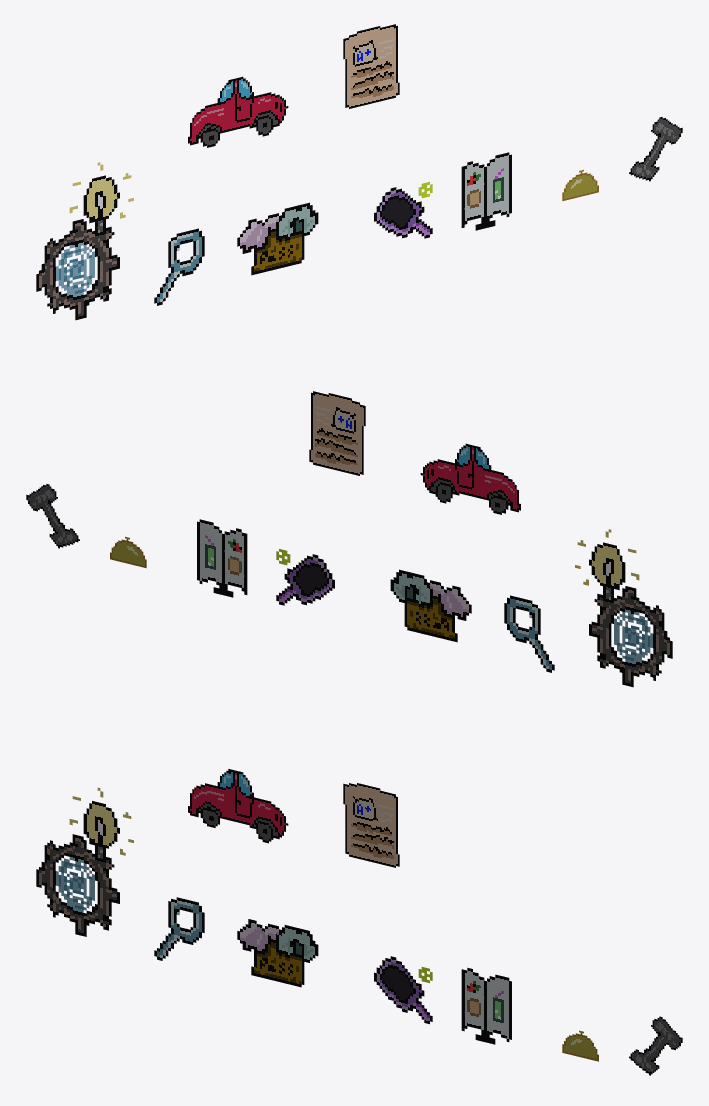
The model's file is study_house_objects.glb.
3 views of the same model, one above another, from view 1: azimuth 30°, elevation 25°; view 2: azimuth 150°, elevation 25°; view 3: azimuth 330°, elevation 25° (orthographic).
Parts seen in each view (by area): view 1: Study House Objects.001, Study House Objects.009, Study House Objects.010, Study House Objects.005, Study House Objects.002, Study House Objects.004, Study House Objects.003, Study House Objects.007, Study House Objects.006; view 2: Study House Objects.001, Study House Objects.009, Study House Objects.010, Study House Objects.005, Study House Objects.002, Study House Objects.004, Study House Objects.003, Study House Objects.007, Study House Objects.006; view 3: Study House Objects.001, Study House Objects.009, Study House Objects.010, Study House Objects.005, Study House Objects.002, Study House Objects.004, Study House Objects.003, Study House Objects.007, Study House Objects.006.
Part boxes in pixels (box(x1,y1,x2,y2)): Study House Objects.001: box(36, 162, 133, 320); Study House Objects.009: box(343, 24, 399, 108); Study House Objects.010: box(188, 76, 288, 147); Study House Objects.005: box(237, 202, 318, 275); Study House Objects.002: box(461, 152, 511, 230); Study House Objects.004: box(374, 182, 432, 238); Study House Objects.003: box(154, 228, 204, 305); Study House Objects.007: box(629, 117, 682, 181); Study House Objects.006: box(562, 169, 598, 201); Study House Objects.001: box(575, 529, 672, 687); Study House Objects.009: box(309, 391, 365, 475); Study House Objects.010: box(420, 443, 520, 514); Study House Objects.005: box(390, 569, 471, 642); Study House Objects.002: box(197, 519, 247, 597); Study House Objects.004: box(276, 549, 334, 605); Study House Objects.003: box(504, 595, 554, 672); Study House Objects.007: box(26, 484, 79, 548); Study House Objects.006: box(110, 536, 146, 568); Study House Objects.001: box(36, 787, 133, 936); Study House Objects.009: box(343, 783, 399, 867); Study House Objects.010: box(188, 769, 288, 843); Study House Objects.005: box(237, 919, 318, 987); Study House Objects.002: box(461, 967, 511, 1044); Study House Objects.004: box(374, 956, 432, 1024); Study House Objects.003: box(154, 897, 204, 960); Study House Objects.007: box(629, 1016, 682, 1075); Study House Objects.006: box(562, 1030, 598, 1061).
Size of the model in its own units: 7.61 by 2.71 by 2.19e-07.
Materials: 1 (1 with a texture image).
